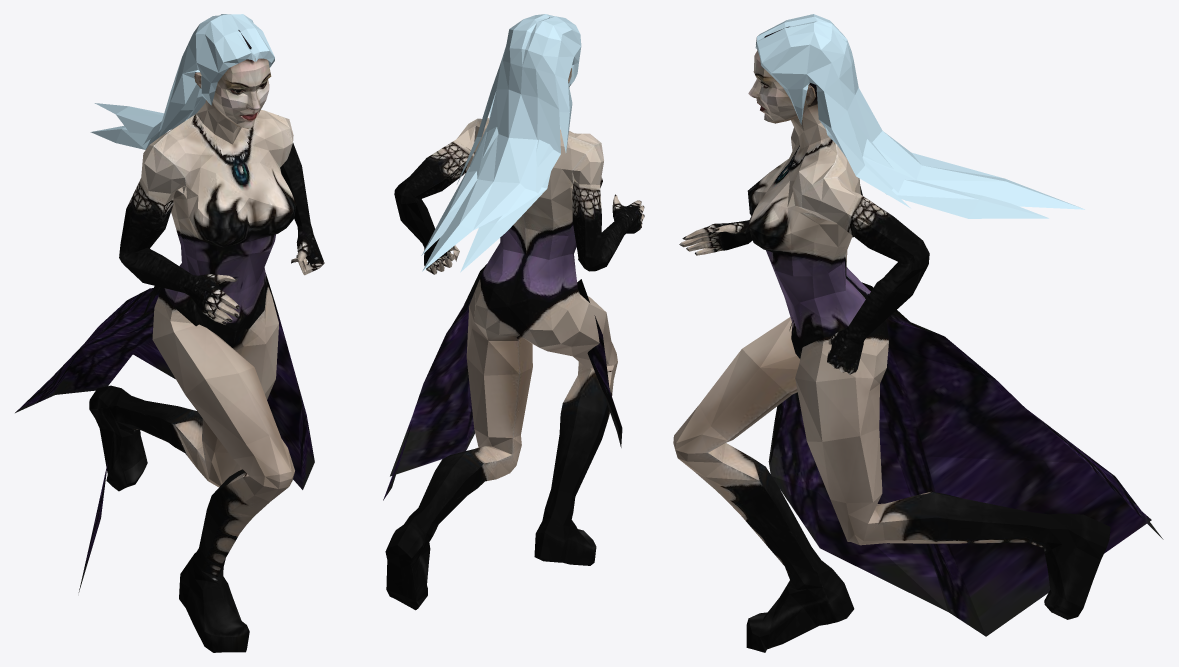
The model's file is running_015.obj.
3 renders of one model, left to right at view 1: azimuth 30°, elevation 25°; view 2: azimuth 150°, elevation 25°; view 3: azimuth 270°, elevation 25°, orthographic. The views are drawn at different scales.
Parts seen in each view (by area): view 1: Plane.001_Plane.007, Plane.003_Plane.008, capelli.001_Plane.006; view 2: Plane.001_Plane.007, capelli.001_Plane.006, Plane.003_Plane.008; view 3: Plane.001_Plane.007, Plane.003_Plane.008, capelli.001_Plane.006.
Part boxes in pixels (bbox=[...]): Plane.001_Plane.007: bbox=[89, 30, 324, 652]; Plane.003_Plane.008: bbox=[15, 273, 314, 592]; capelli.001_Plane.006: bbox=[90, 14, 274, 149]; Plane.001_Plane.007: bbox=[385, 17, 644, 610]; capelli.001_Plane.006: bbox=[421, 14, 581, 272]; Plane.003_Plane.008: bbox=[383, 264, 622, 500]; Plane.001_Plane.007: bbox=[673, 26, 1110, 652]; Plane.003_Plane.008: bbox=[768, 282, 1163, 636]; capelli.001_Plane.006: bbox=[755, 14, 1084, 218].
Size of the model in its own units: 1.71 by 5.04 by 3.44.
